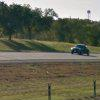Tree: (17, 2, 52, 40)
